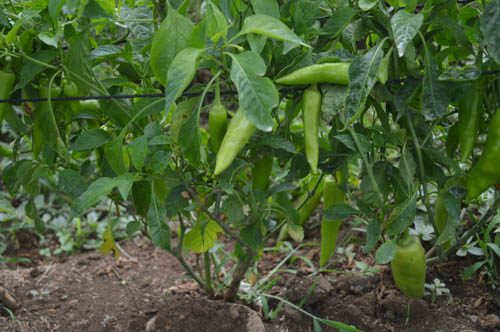ChiliPepper: (465, 112, 499, 202), (278, 177, 322, 245), (213, 105, 253, 174), (319, 178, 343, 265), (389, 244, 428, 296), (456, 84, 481, 162), (276, 63, 349, 87), (303, 90, 322, 170), (208, 112, 226, 148)
